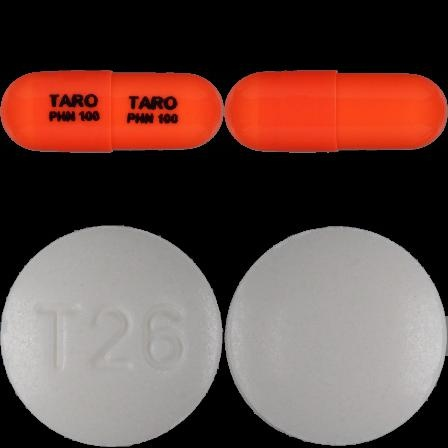51672-4111: (0, 0, 224, 224)
